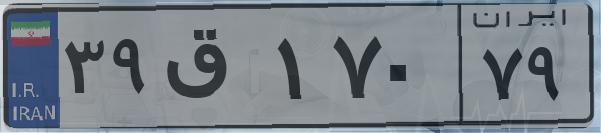0: (385, 28, 445, 110)
1: (270, 28, 330, 110)
3: (57, 26, 110, 100)
7: (330, 28, 385, 110), (475, 38, 525, 113)
9: (525, 38, 570, 115), (110, 28, 158, 98)
ق: (158, 20, 270, 120)
